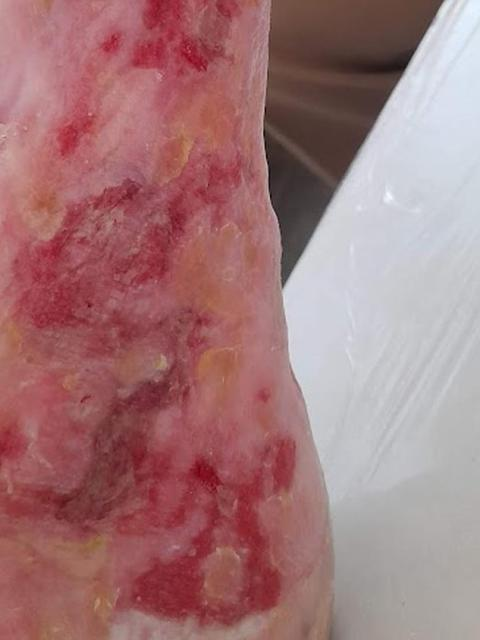wound: (2, 4, 295, 635)
